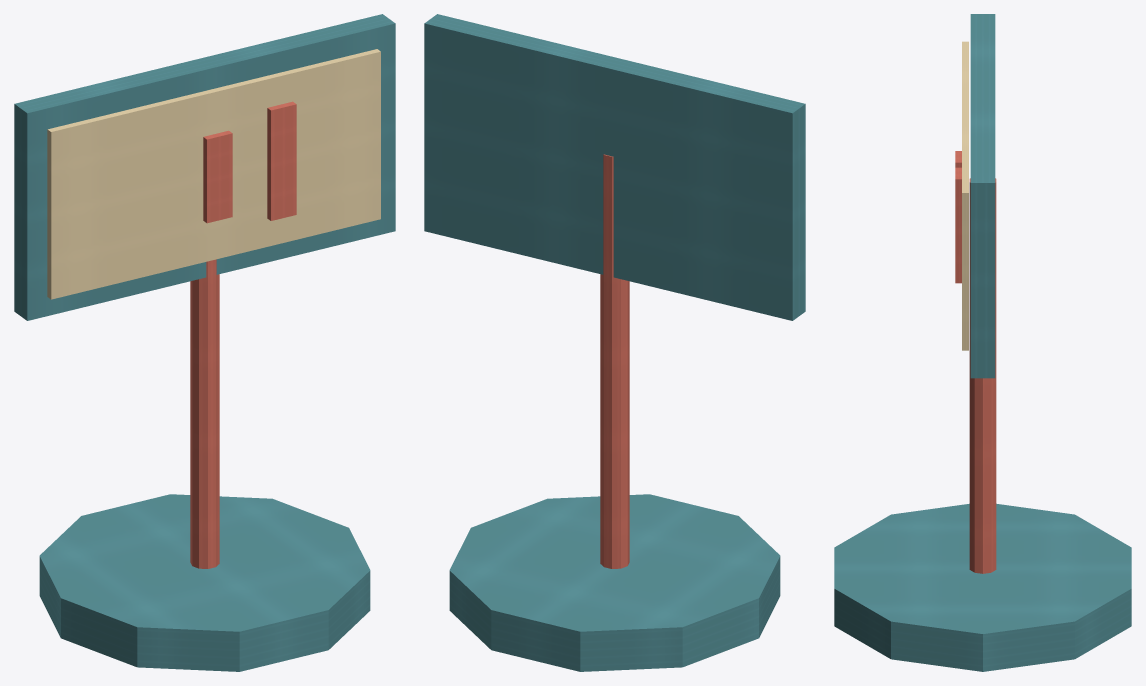
File: atlas100-s072-a11.lod1.glb
3 views of the same model, side by side, from view 1: azimuth 30°, elevation 25°; view 2: azimuth 150°, elevation 25°; view 3: azimuth 270°, elevation 25° (orthographic). The views are drawn at different scales.
Visible parts, largest first — view 1: atlas100-s072-a11:part-003, atlas100-s072-a11:part-000, atlas100-s072-a11:part-002, atlas100-s072-a11:part-001, atlas100-s072-a11:part-006, atlas100-s072-a11:part-005; view 2: atlas100-s072-a11:part-002, atlas100-s072-a11:part-000, atlas100-s072-a11:part-001; view 3: atlas100-s072-a11:part-000, atlas100-s072-a11:part-002, atlas100-s072-a11:part-001, atlas100-s072-a11:part-003, atlas100-s072-a11:part-006.
Boxes of the visible parts, bbox=[...] form: atlas100-s072-a11:part-003: bbox=[47, 49, 380, 299]; atlas100-s072-a11:part-000: bbox=[39, 494, 370, 671]; atlas100-s072-a11:part-002: bbox=[14, 14, 395, 320]; atlas100-s072-a11:part-001: bbox=[190, 259, 219, 568]; atlas100-s072-a11:part-006: bbox=[267, 101, 296, 220]; atlas100-s072-a11:part-005: bbox=[203, 130, 232, 223]; atlas100-s072-a11:part-002: bbox=[424, 14, 805, 320]; atlas100-s072-a11:part-000: bbox=[449, 494, 780, 671]; atlas100-s072-a11:part-001: bbox=[600, 154, 629, 568]; atlas100-s072-a11:part-000: bbox=[834, 503, 1131, 671]; atlas100-s072-a11:part-002: bbox=[970, 14, 995, 378]; atlas100-s072-a11:part-001: bbox=[969, 178, 996, 573]; atlas100-s072-a11:part-003: bbox=[962, 41, 968, 350]; atlas100-s072-a11:part-006: bbox=[955, 167, 961, 283].
Bounding box in the file's own units: 1.15 × 1.61 × 0.856.
3 materials, 3 textured.
